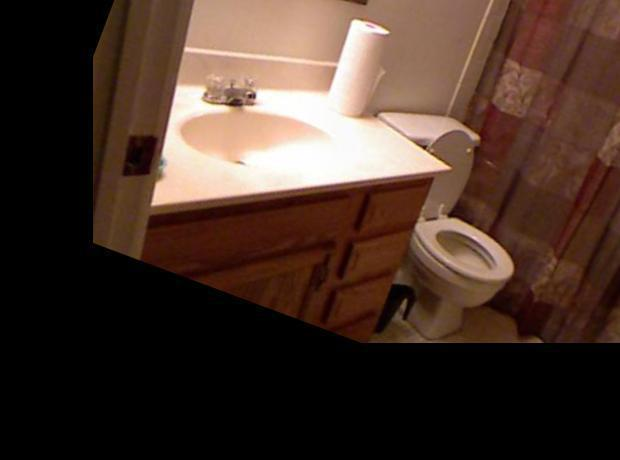Ducha: (390, 0, 620, 416)
Lavamanos: (164, 57, 356, 216)
Sanitario: (307, 85, 571, 373)
